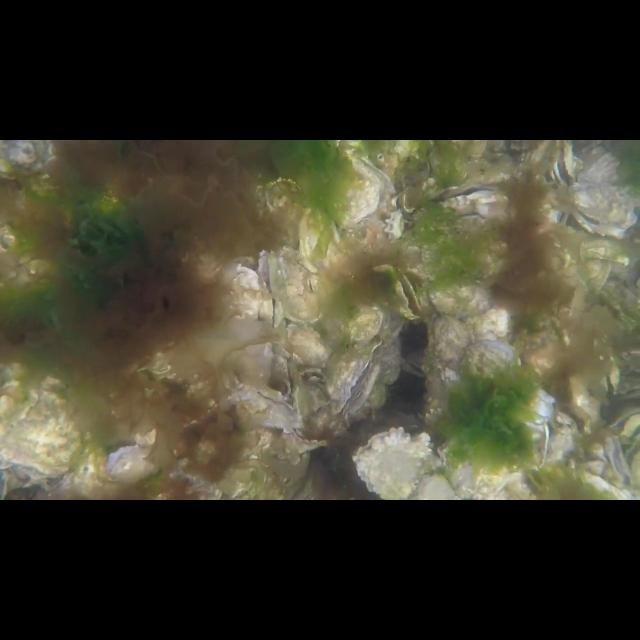Oyster-Closed: (450, 336, 556, 426), (0, 375, 82, 478), (436, 434, 536, 500), (324, 140, 381, 226), (429, 311, 473, 403), (298, 204, 350, 274), (277, 243, 321, 323), (230, 388, 304, 434), (284, 318, 332, 372), (425, 280, 495, 316), (230, 264, 262, 318), (580, 470, 632, 500), (580, 257, 612, 295), (580, 242, 630, 264)
Oyster-Open: (566, 150, 640, 240), (352, 426, 432, 500), (327, 339, 383, 417), (426, 183, 508, 231), (549, 371, 599, 439), (236, 342, 292, 402), (344, 300, 404, 348), (107, 428, 157, 478), (257, 249, 281, 327), (606, 436, 634, 488), (393, 273, 423, 321), (284, 423, 330, 452), (550, 140, 576, 186), (606, 408, 640, 440), (598, 356, 622, 396)
